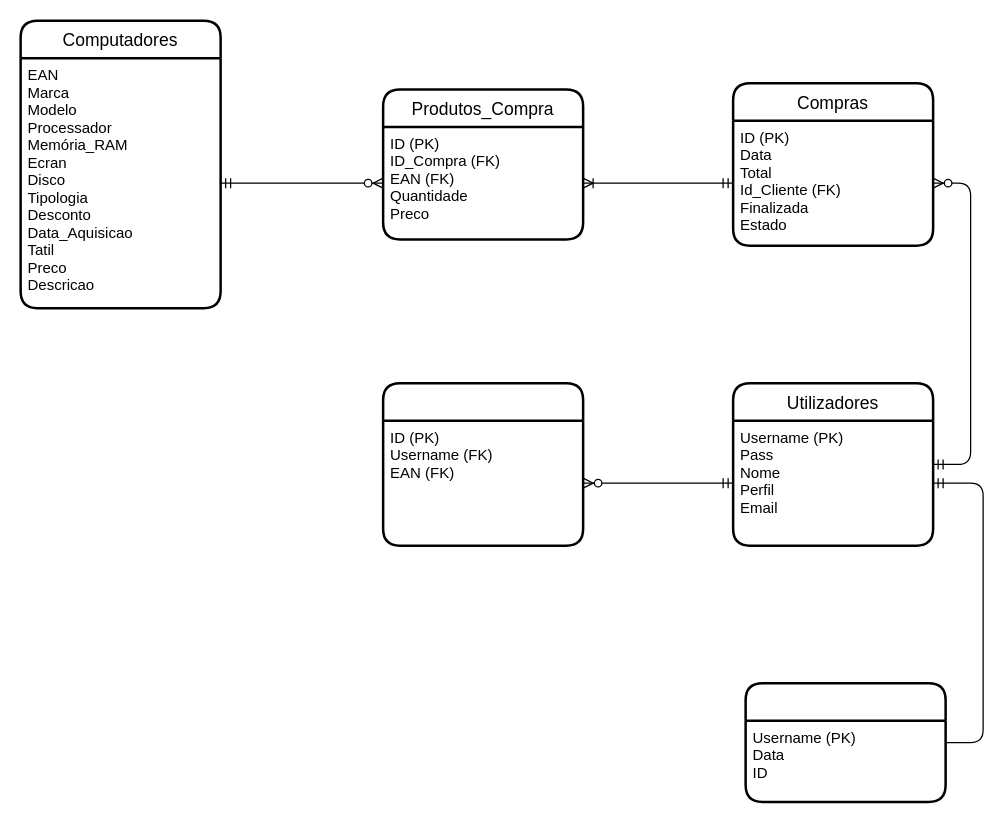
Some shapes in this 1004 by 823 pixel diagram are drawn without their labels. Each missing label, with the box of its shape:
Favoritos: (381, 381, 584, 546)
Recuperar_Password: (744, 681, 946, 802)
